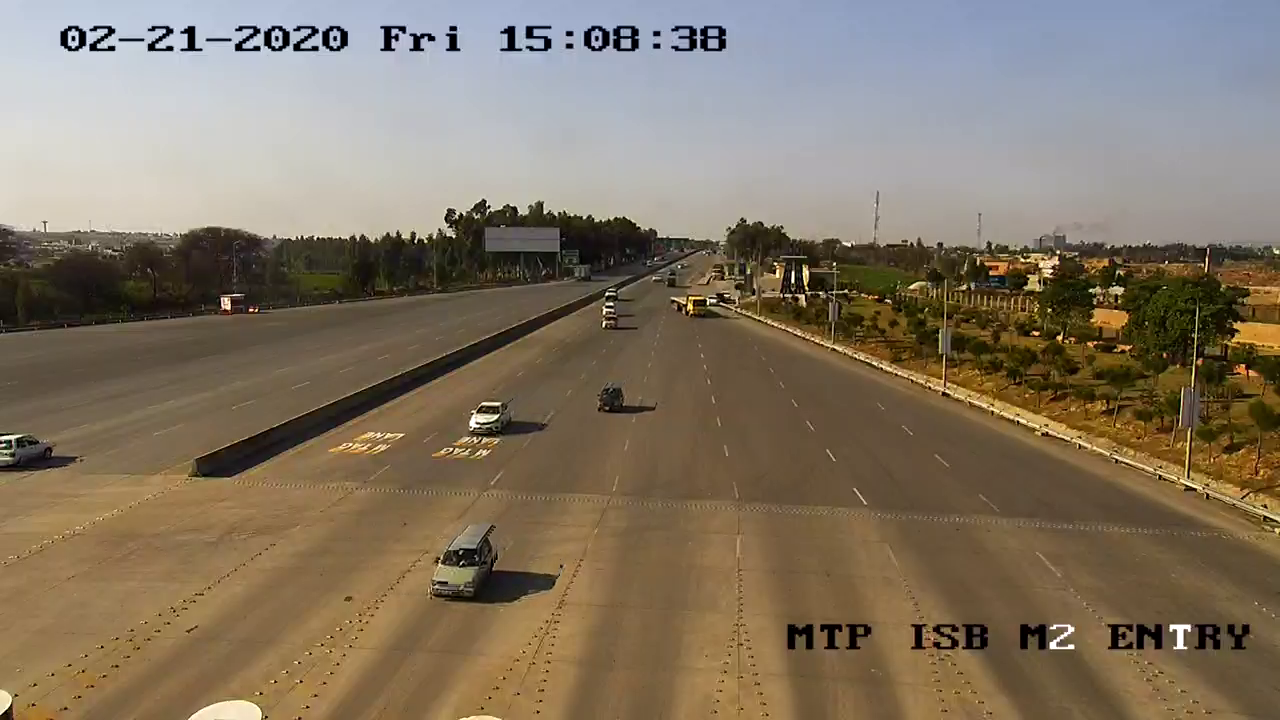f1: (459, 388, 519, 443), (585, 378, 637, 417)
